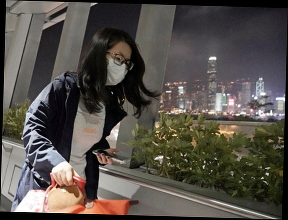with_mask: (105, 51, 132, 86)
